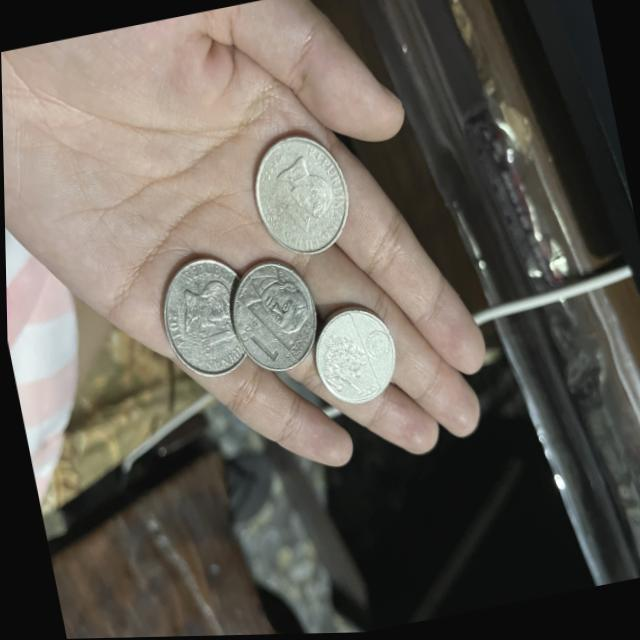1_New_Back: (308, 321, 374, 413)
1_New_Front: (233, 312, 279, 372)
1_Old_Front: (180, 313, 239, 366), (269, 186, 316, 240)
